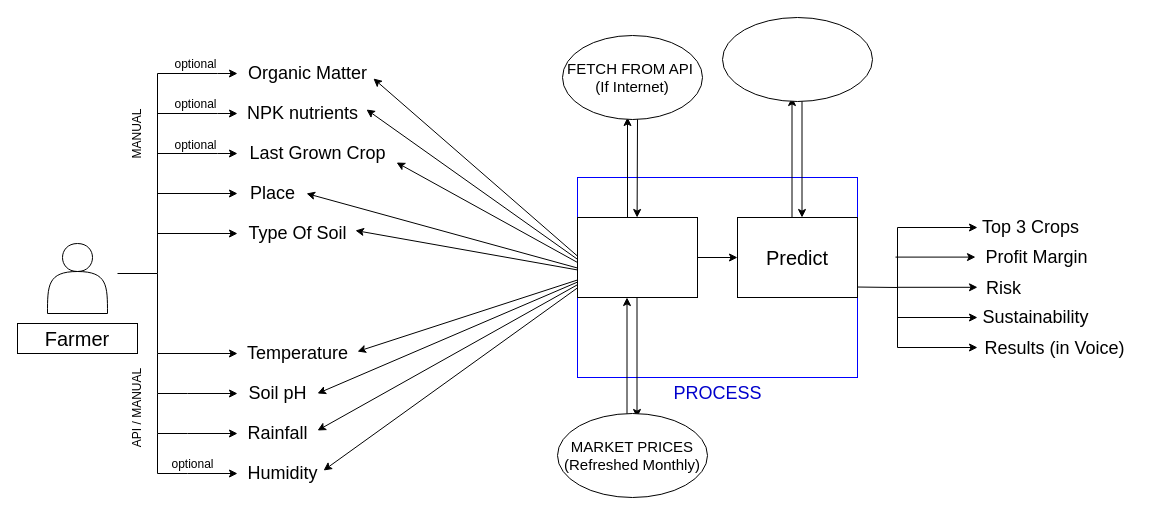
Image size: 1152x515. Some labels were removed from this diagram. The centre of each missing label's shape, as x and y in pixels:
"ALGO MODEL" goes at [797,59].
"Gather" goes at [637,257].
